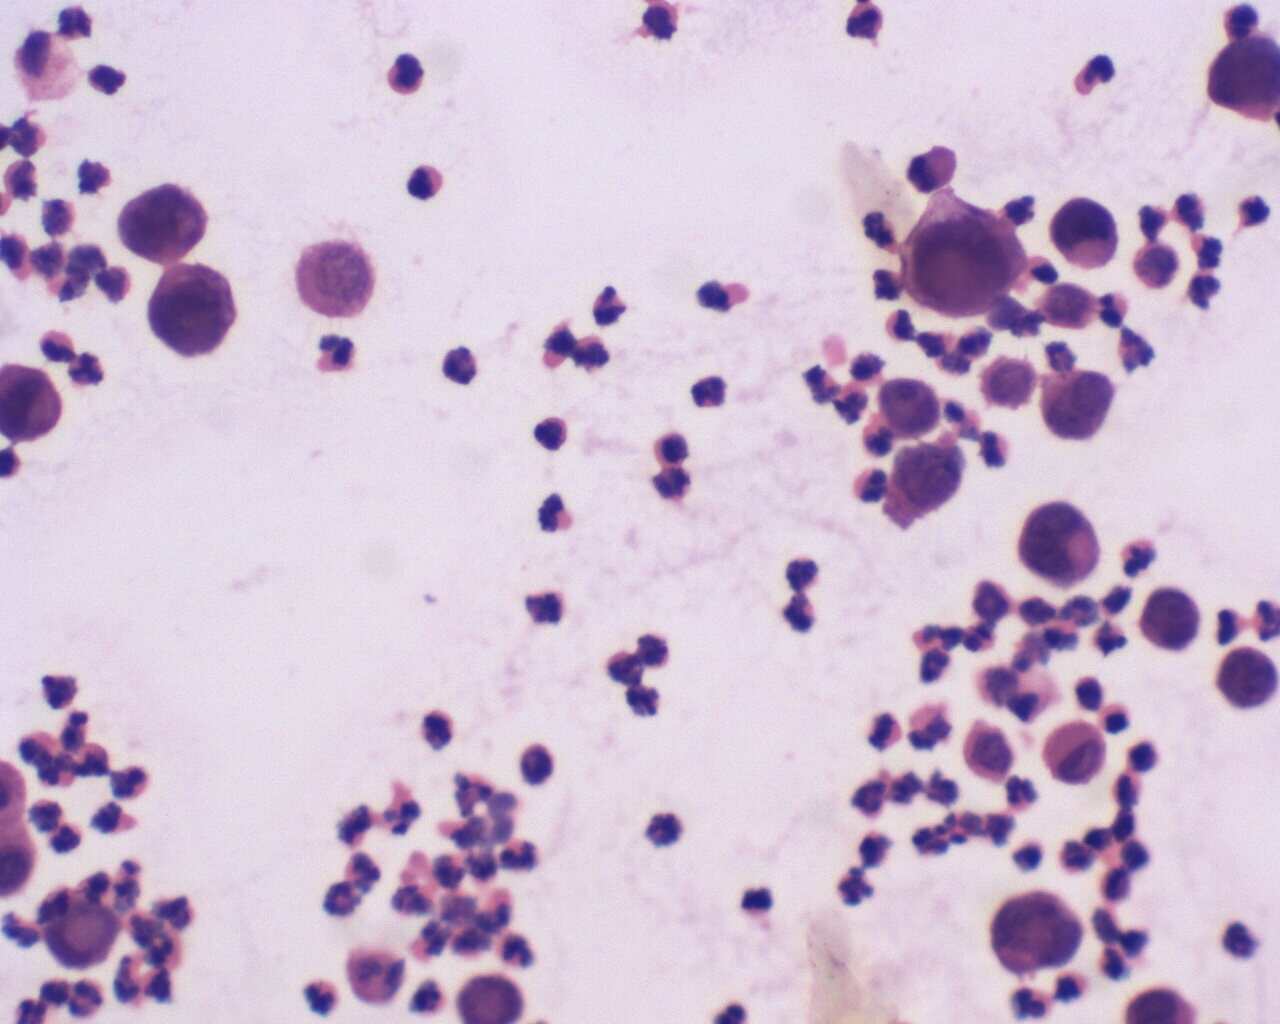ab: (897, 195, 1033, 326), (143, 263, 243, 365), (985, 880, 1089, 975), (109, 176, 217, 264), (1014, 497, 1109, 588), (1037, 363, 1124, 446), (891, 438, 974, 519), (1049, 194, 1126, 274), (1140, 580, 1209, 667), (1214, 643, 1280, 717), (959, 720, 1020, 789)
neutro: (381, 49, 430, 100), (837, 3, 894, 45), (529, 411, 577, 457), (837, 862, 882, 910), (1119, 531, 1161, 581), (689, 370, 737, 412), (300, 972, 343, 1018), (533, 494, 578, 536), (440, 345, 480, 392), (998, 771, 1039, 816)
